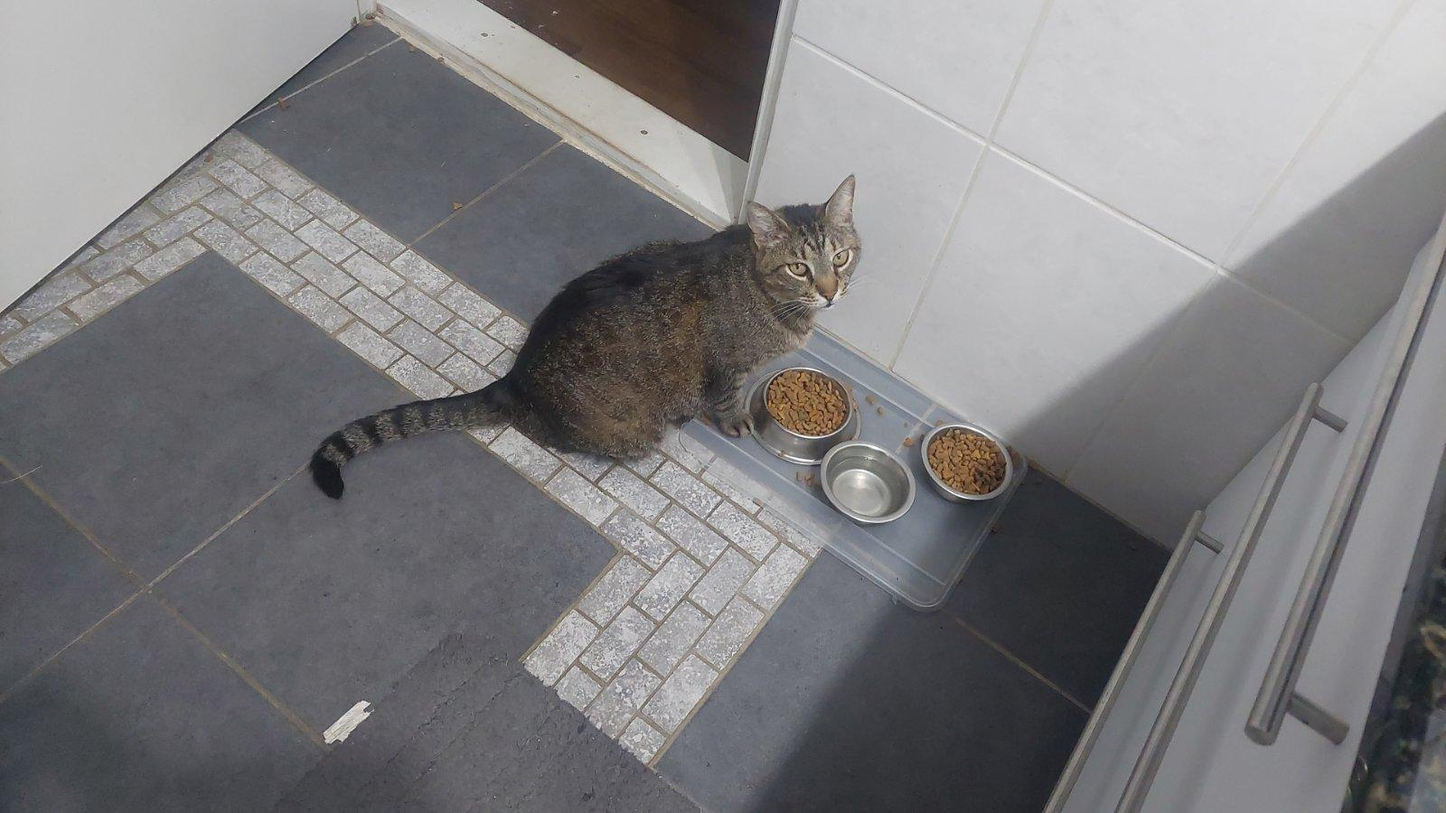macka: (307, 170, 863, 502)
